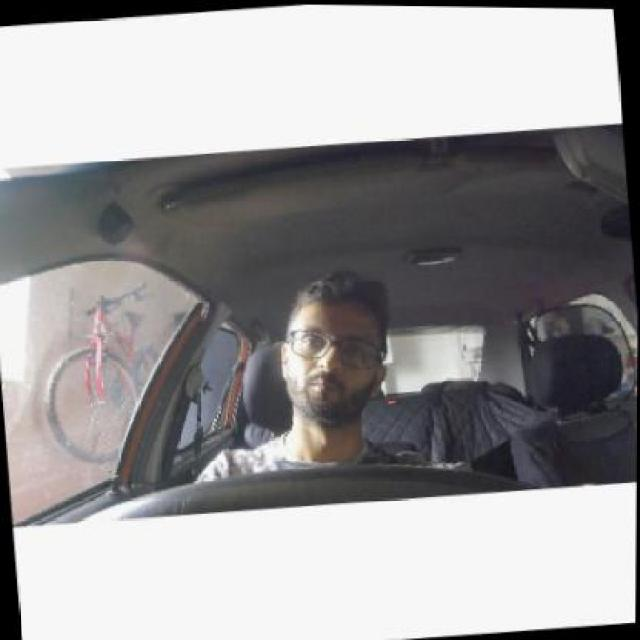person: (267, 270, 398, 434)
